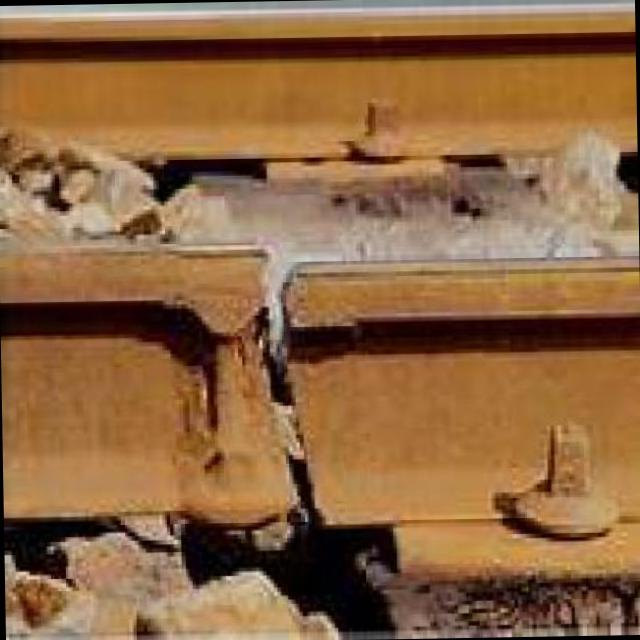defective: (7, 140, 640, 615)
